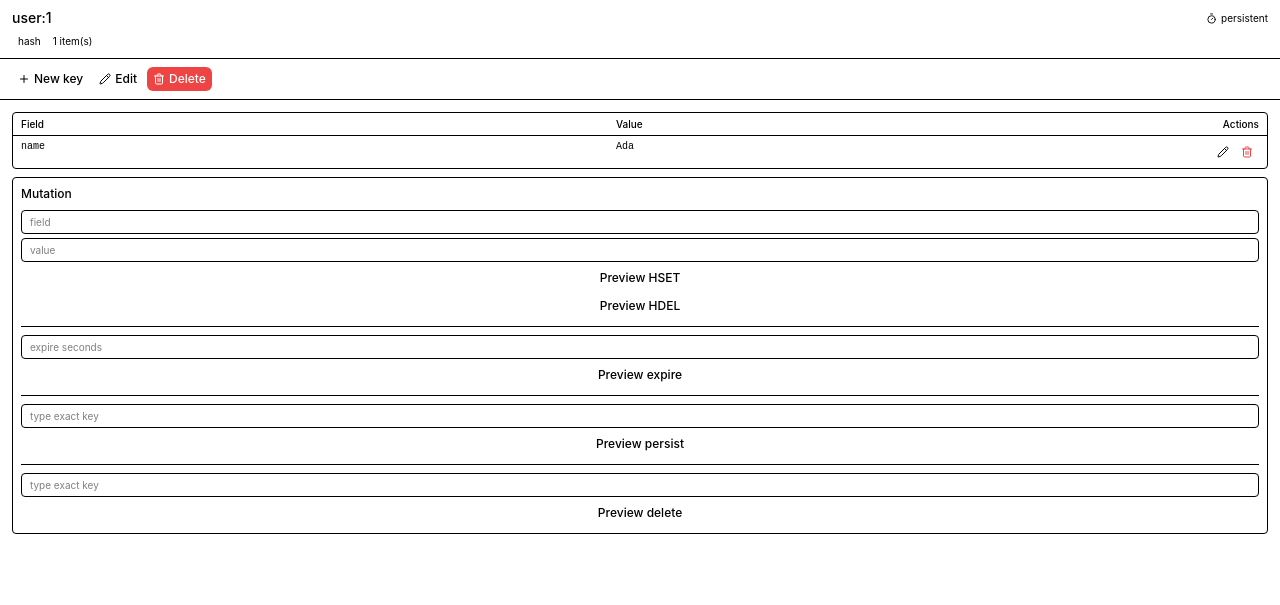
Test: KvKeyDetailPanel inline entry CRUD › warns that deleting the only entry drops the key
Expected: the table is shown, [13,113,1267,168]
Step 1. Click the button named "Delete name" → (1247, 152), box [1235,140,1259,164]
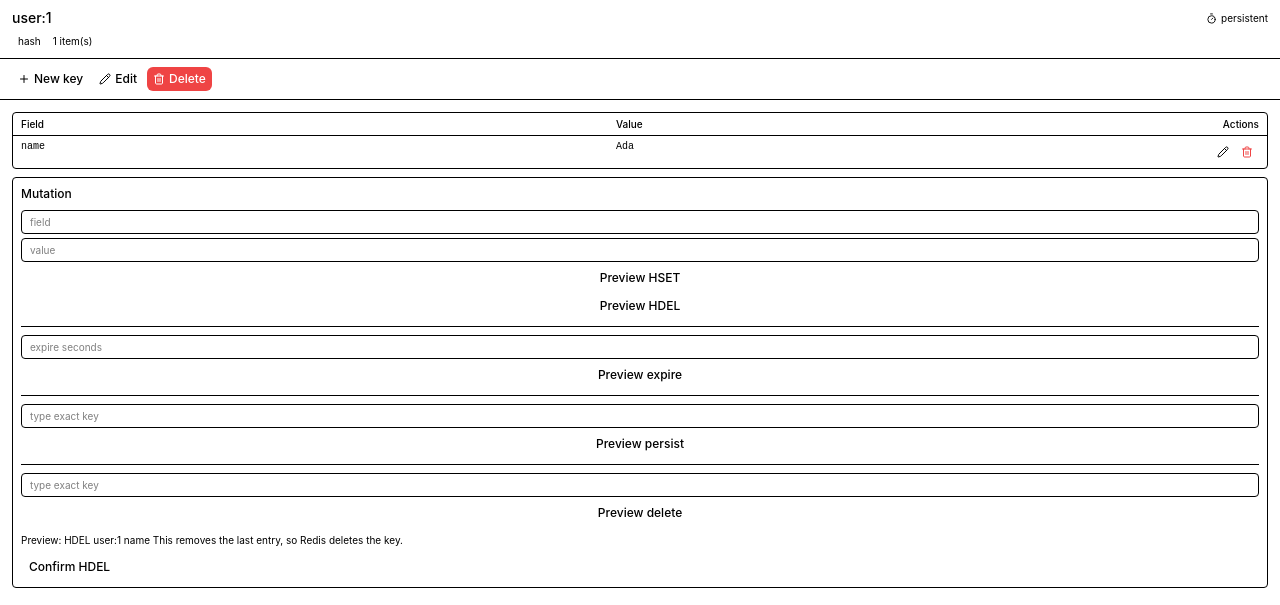
Expected: the message shows "last entry", [21,534,403,546]
